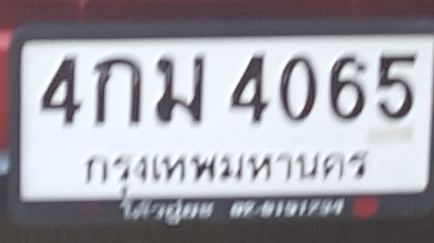num4: (37, 54, 84, 125)
txt01: (90, 56, 142, 125)
txt28: (152, 53, 206, 123)
